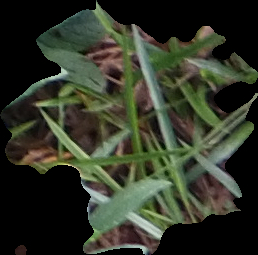grass: (1, 1, 257, 253)
